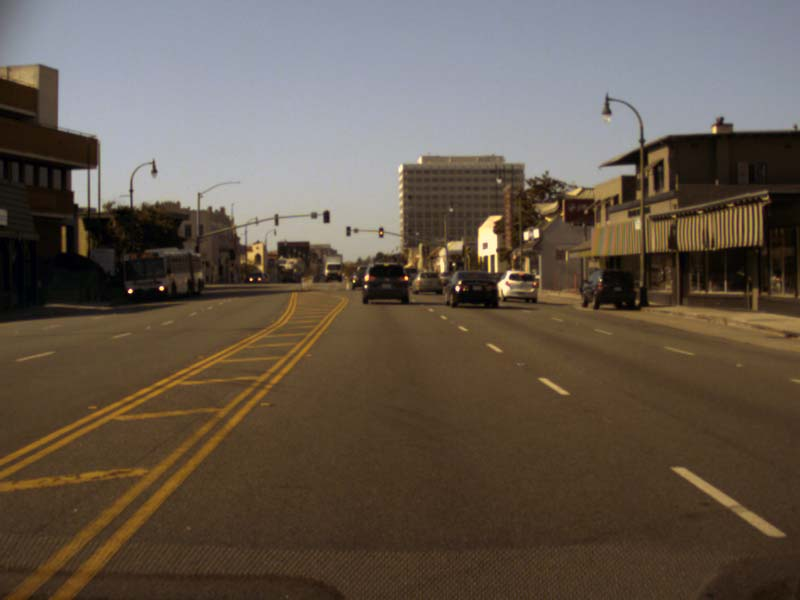Yellow: (378, 227, 383, 237), (345, 226, 350, 236)
